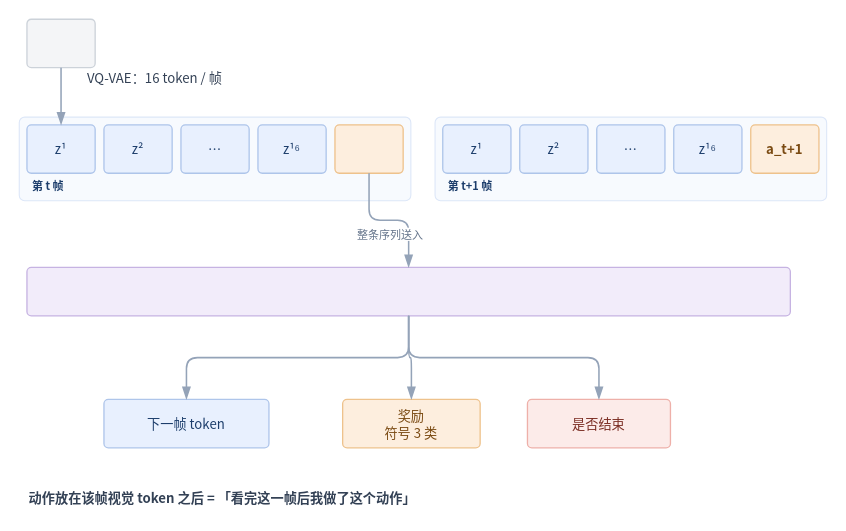
The diagram is 846 pixels wide and 531 high, and some of its shapes have lost their labels. Here are the shapes that lost their labels. From the top down, the centre of each, then its label:
At (60,43): "图像".
At (368,148): "a_t".
At (408,291): "causal Transformer（10 层）".
